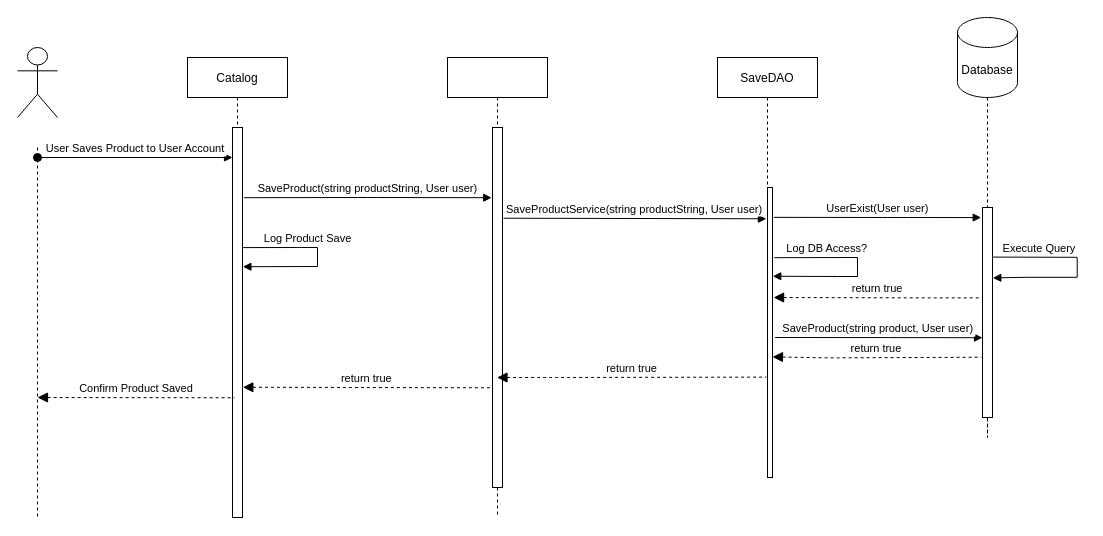
Some shapes in this 1103 by 536 pixel diagram are drawn without their labels. Each missing label, with the box of its shape:
Actor: (16, 46, 58, 118)
SaveManager: (446, 56, 548, 518)
